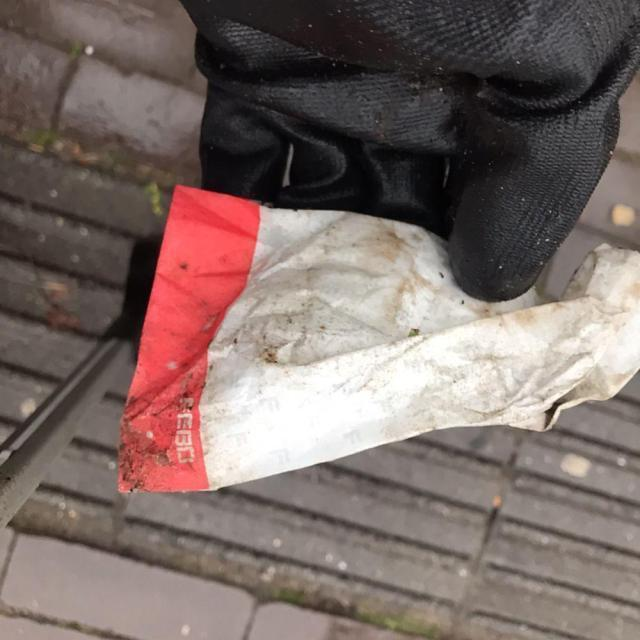Paper: (116, 181, 640, 494)
